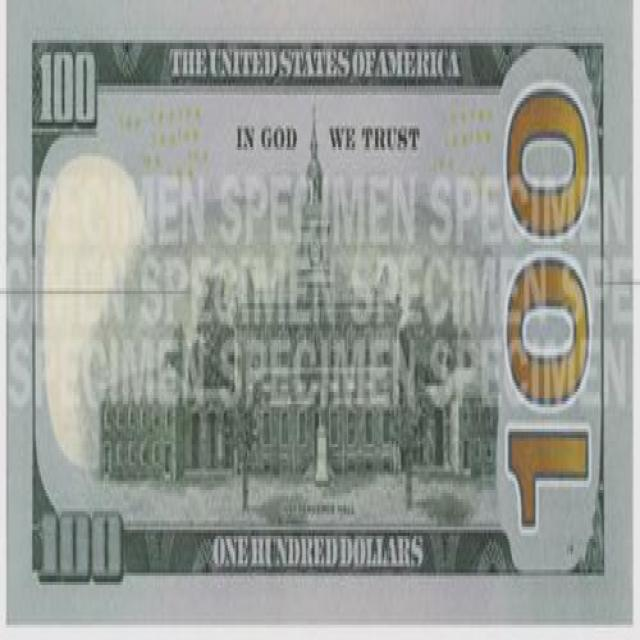100-Back: (5, 0, 635, 628)
